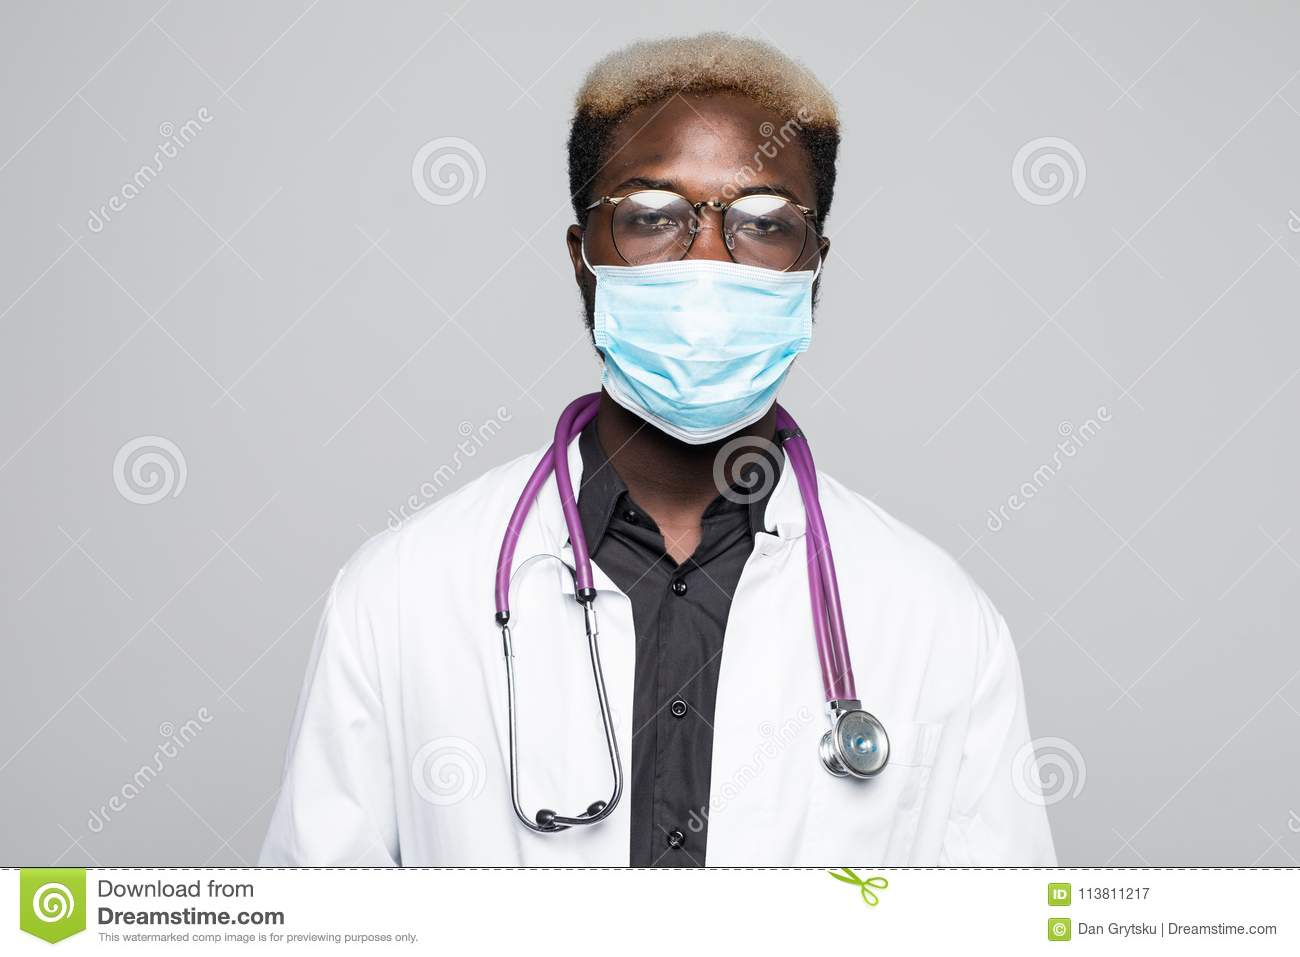mask: (573, 252, 832, 457)
